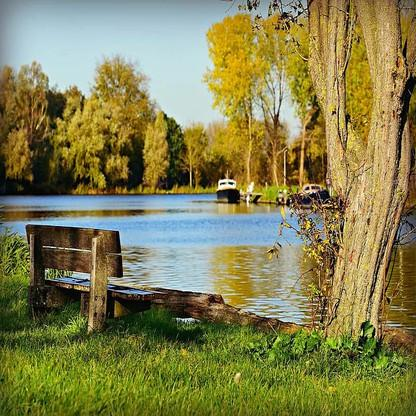obstacle: (20, 213, 158, 342)
